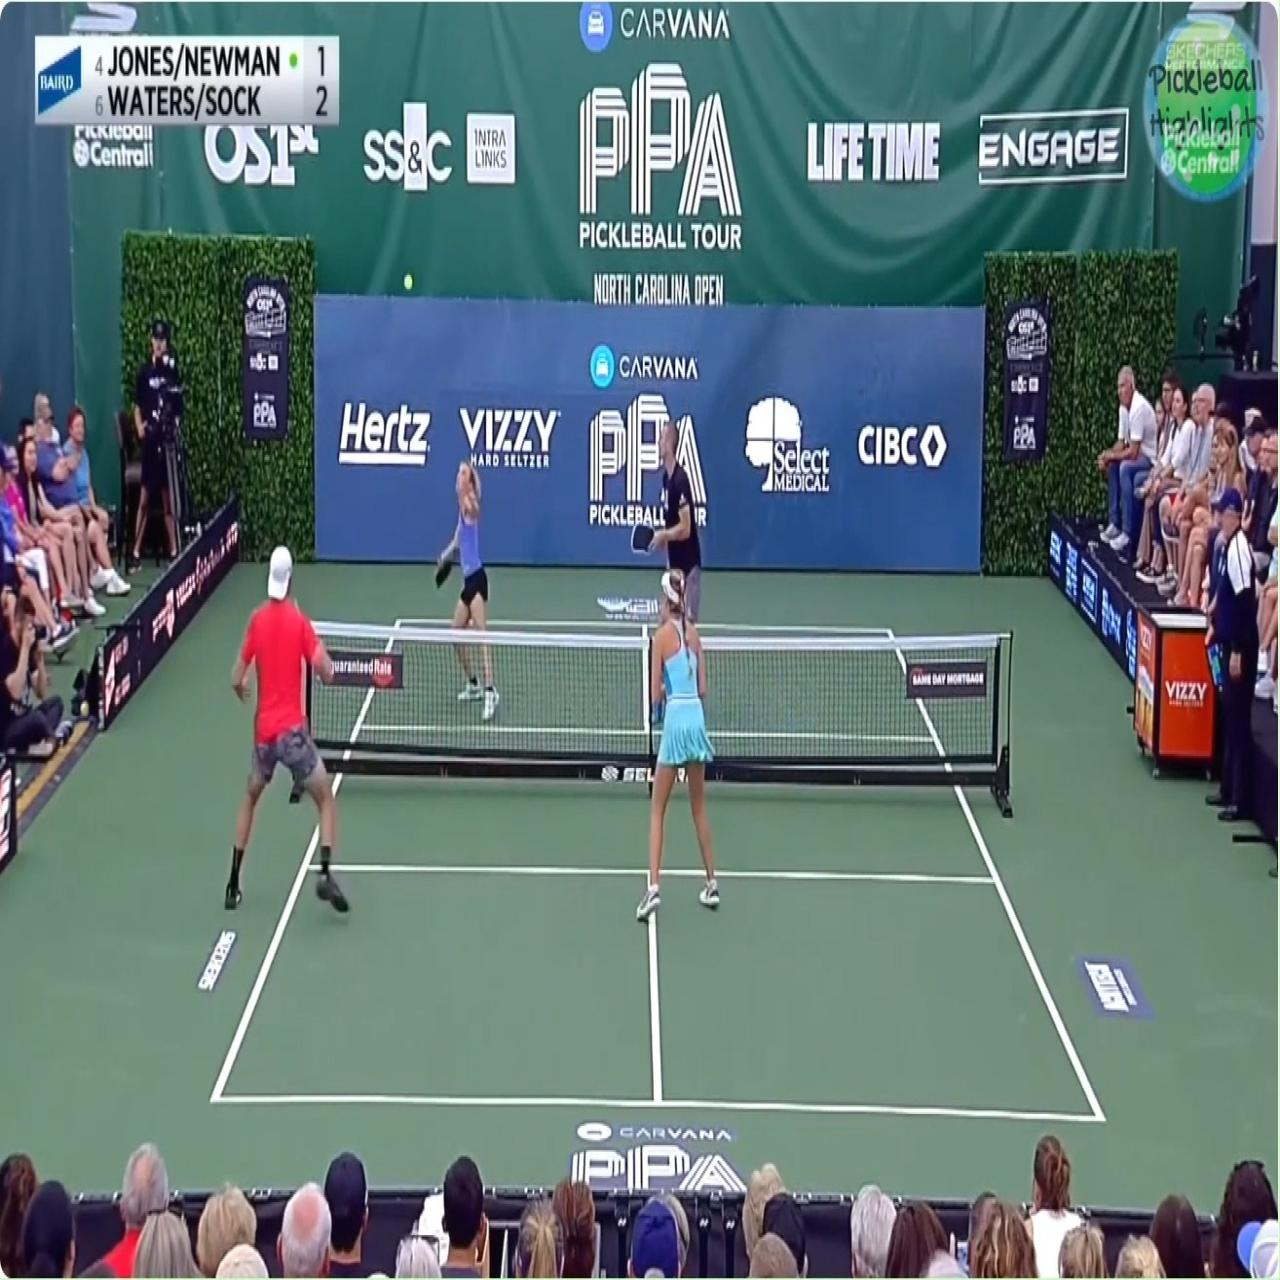pickleball: (403, 273, 413, 291)
